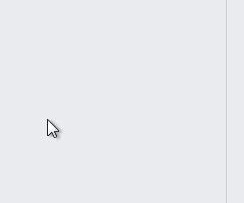cursor: (46, 118, 59, 138)
